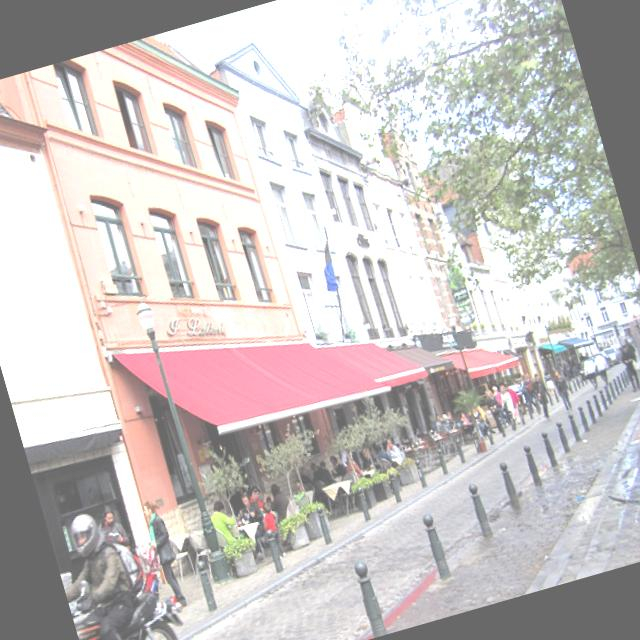Vehicle: (64, 556, 210, 640)
